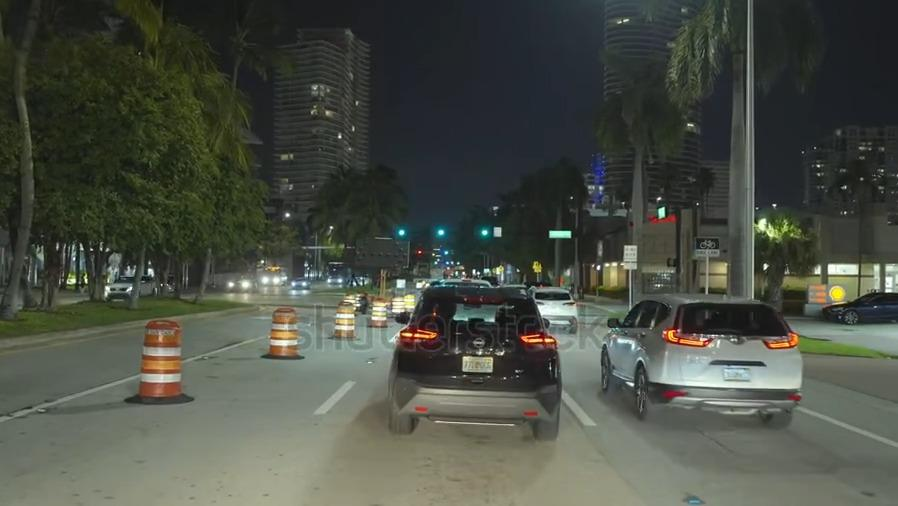bus: (326, 259, 347, 290), (261, 264, 288, 288)
car: (393, 286, 563, 437), (606, 297, 799, 419), (818, 288, 898, 328), (528, 283, 581, 331), (105, 273, 155, 303), (225, 271, 257, 296), (291, 276, 308, 290)
cone: (135, 316, 183, 398), (268, 304, 296, 354), (332, 297, 356, 343), (369, 297, 387, 327), (386, 294, 405, 321), (402, 290, 414, 315)
traffic light: (474, 222, 498, 244), (431, 223, 450, 247), (391, 224, 411, 242)
wheel: (629, 363, 654, 415), (600, 347, 615, 391)
